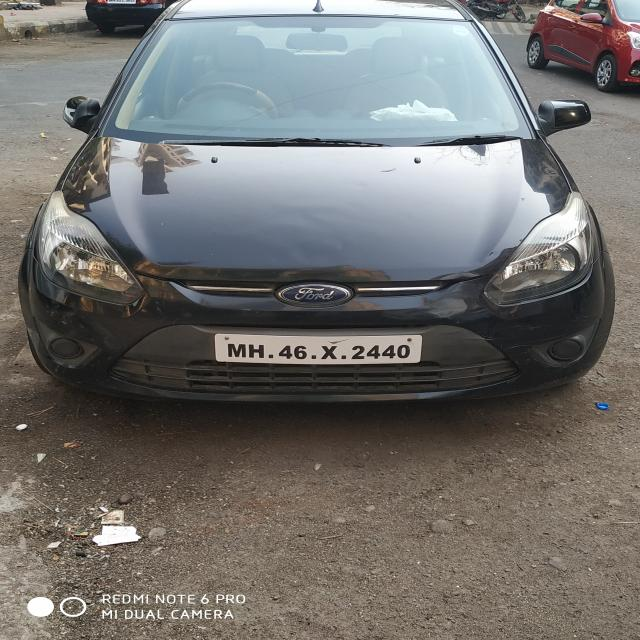Number-Plate: (218, 337, 421, 366)
